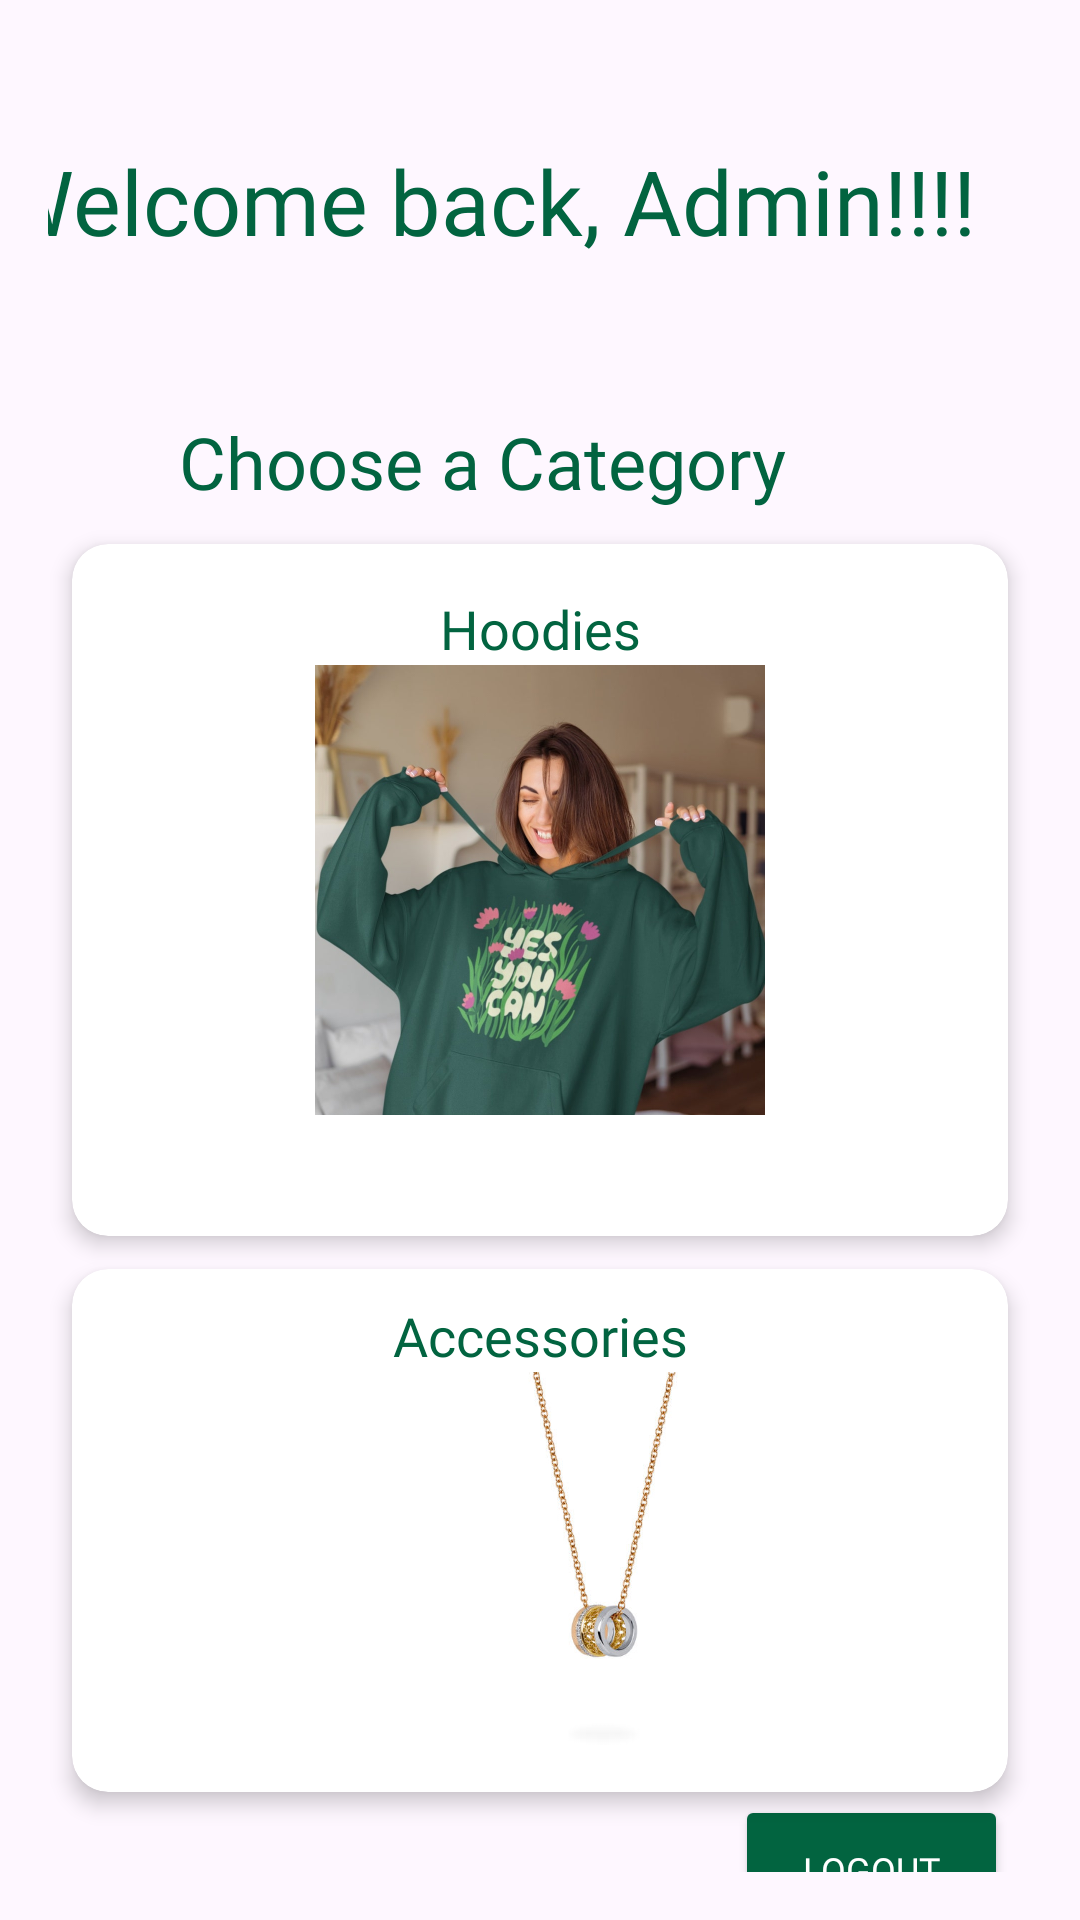

Point at icon controls on the screen. Image size 1080w x 1920h, points as point (x, y).
pendant: point (604, 1514)
